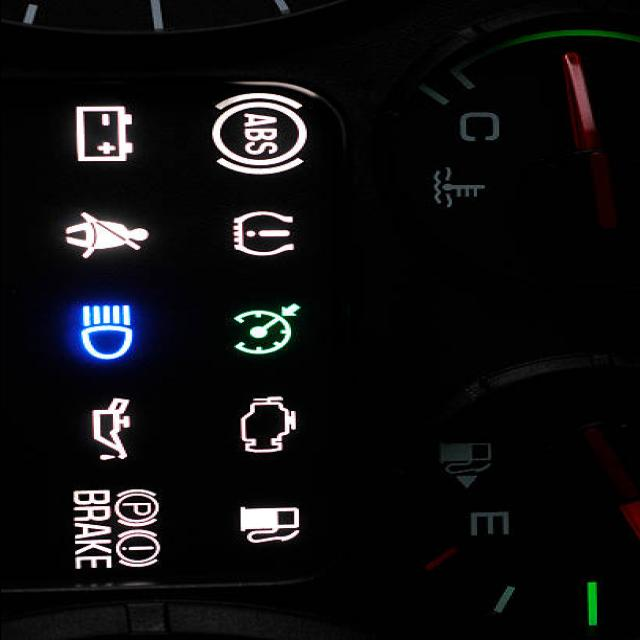Anti Lock Braking System: (206, 89, 312, 179)
Braking System Issue: (66, 486, 164, 573)
Charging System Issue: (71, 103, 137, 165)
Check Engine: (235, 394, 299, 456)
Low Engine Oil Warning Light: (86, 394, 136, 464)
Low Tire Pressure Warning Light: (227, 208, 298, 259)
